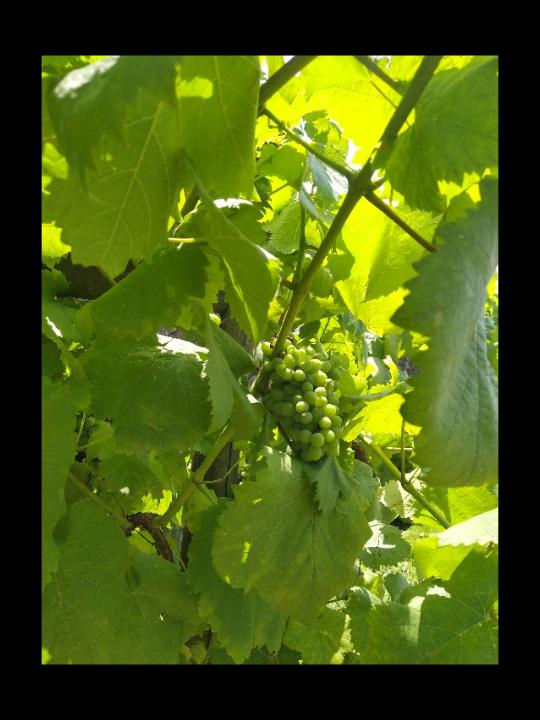grape: (259, 334, 345, 463)
